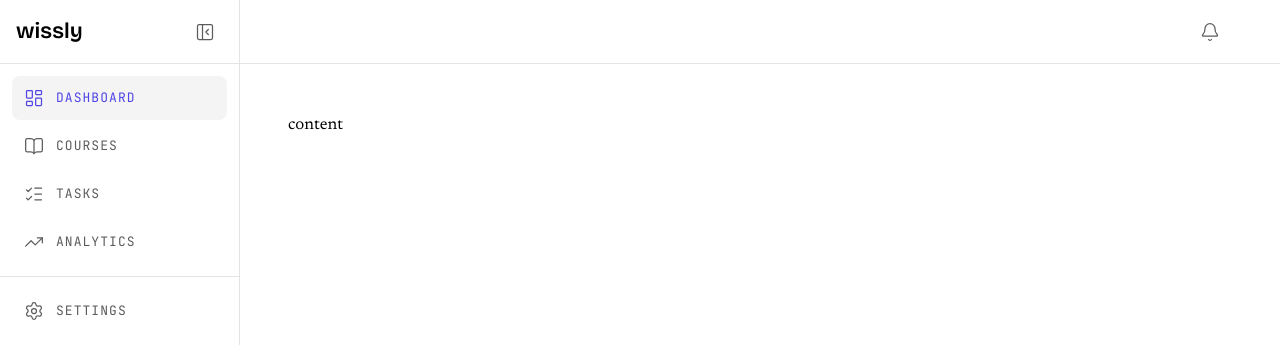
Test: DashboardShell › collapses the sidebar to icons and back
Click the button named "collapse sidebar" at [205, 32], box [183,10,227,54]
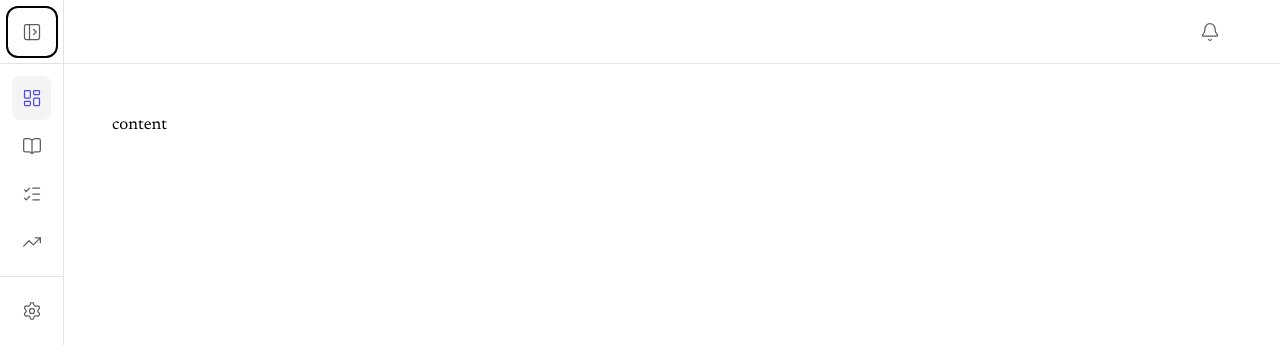
Result: the button named "expand sidebar" is shown
Click the button named "expand sidebar" at [32, 32], box [10,10,54,54]
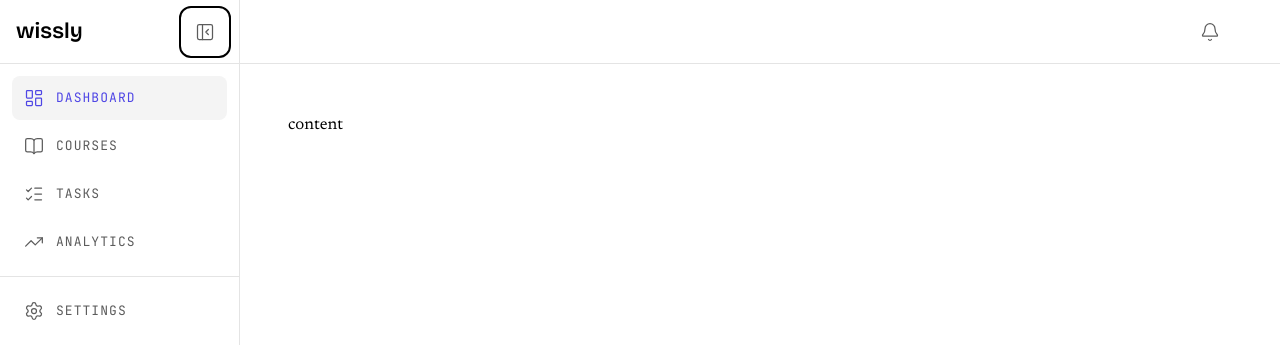
Result: the button named "collapse sidebar" is shown at [183,10,227,54]
